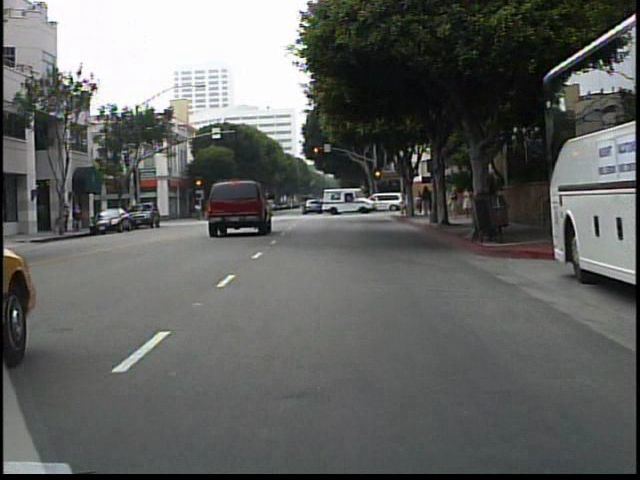person: (449, 183, 464, 222), (463, 181, 475, 221)
